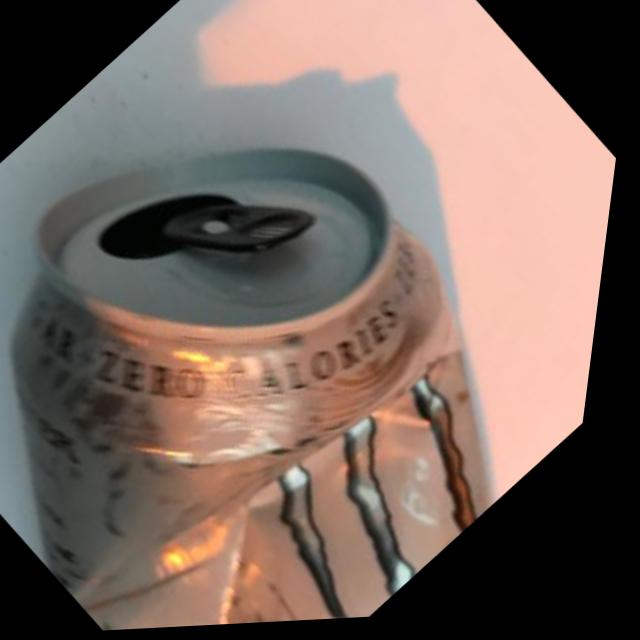metal: (0, 13, 636, 640)
